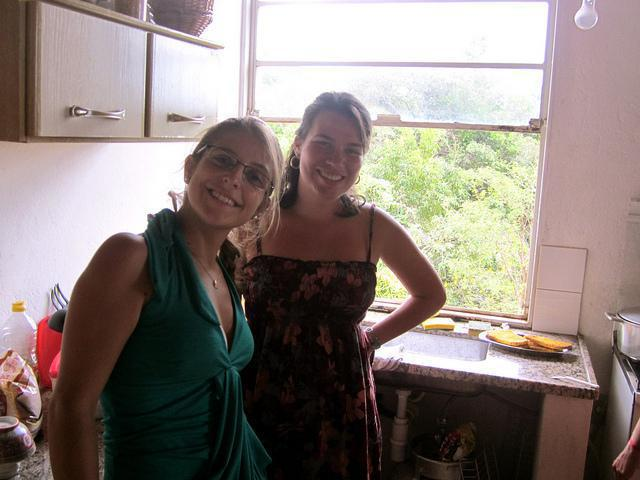Lavaplatos: (308, 271, 503, 373)
